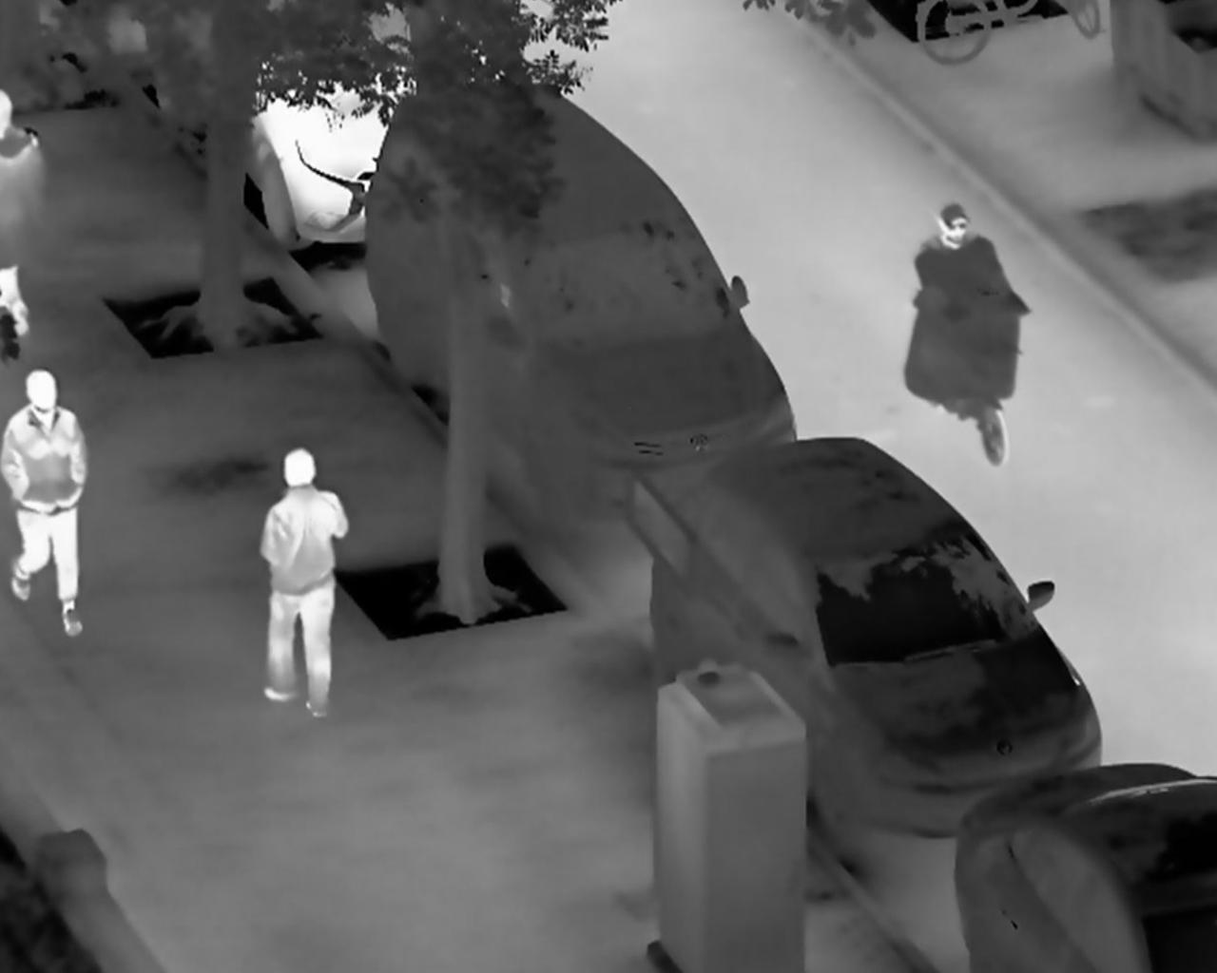person: (253, 446, 349, 724), (4, 369, 87, 638), (911, 198, 1029, 326)
